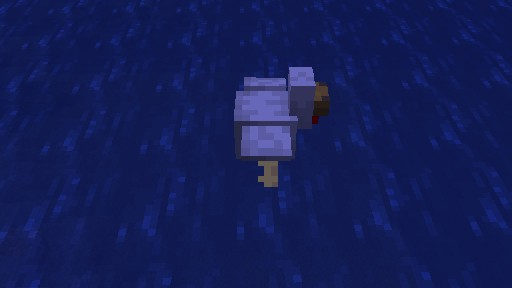chicken: (233, 66, 330, 187)
